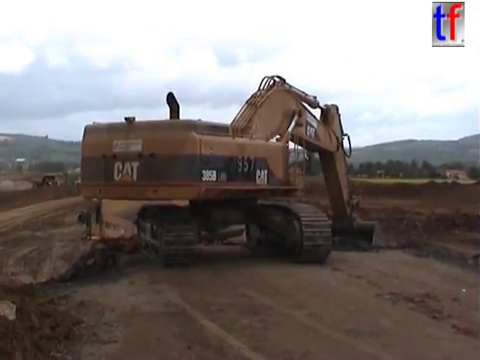excavator: (75, 72, 393, 266)
truck: (75, 196, 246, 273), (30, 171, 62, 193)
